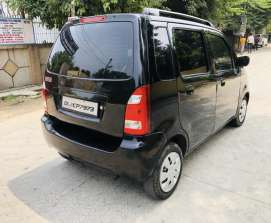license_plate: (59, 96, 99, 116)
